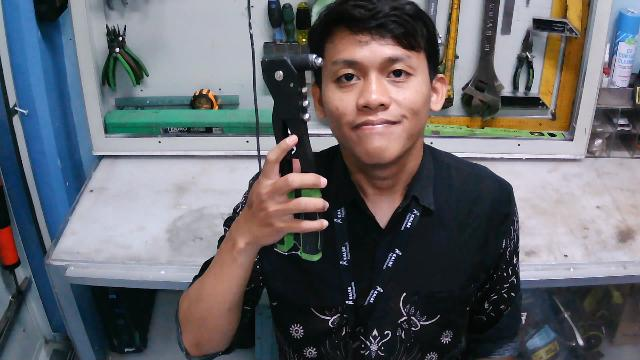tang_rivet: (256, 41, 325, 262)
